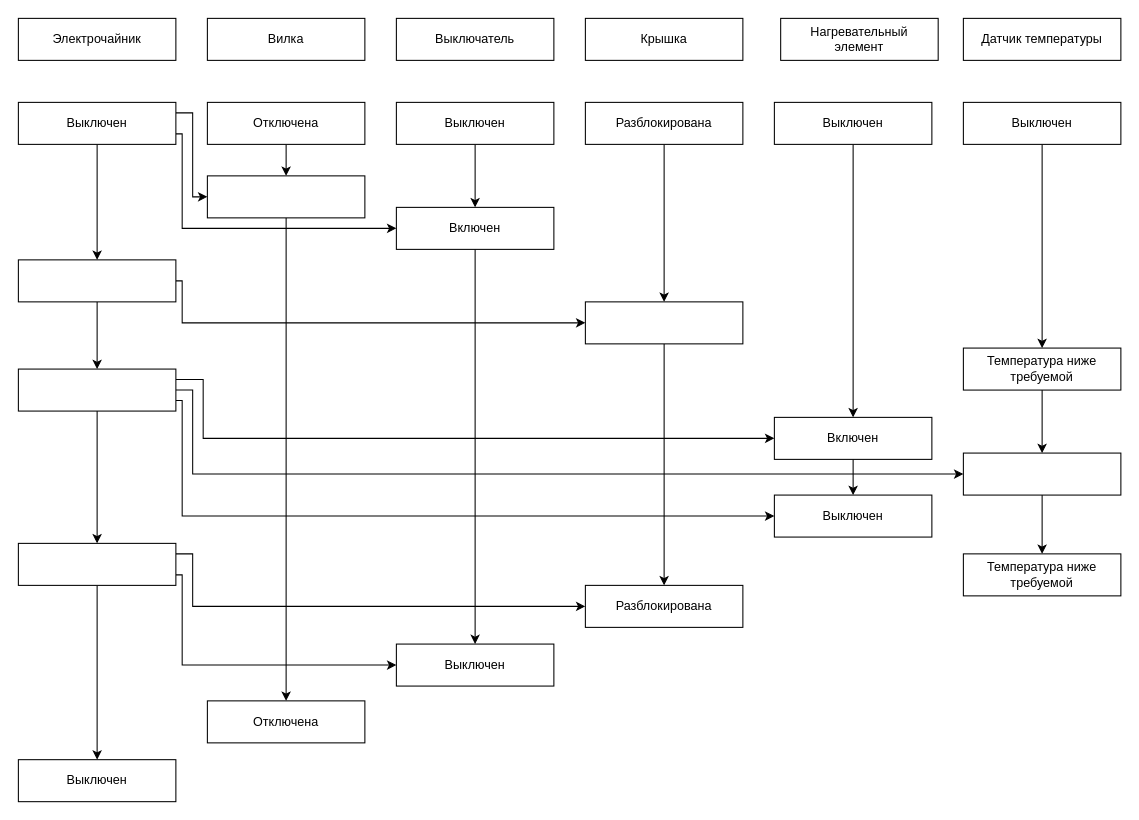
Some shapes in this 1139 by 820 pixel diagram are drawn without their labels. The shapes that lost their labels are listed below. From the top down, each one's centre as x and y in pixels, then its label:
At [285,196]: "Подключена".
At [96,280]: "Включается".
At [663,322]: "Заблокирована".
At [96,389]: "Нагрев воды".
At [1041,473]: "Необходимая температура".
At [96,563]: "Отключается".
